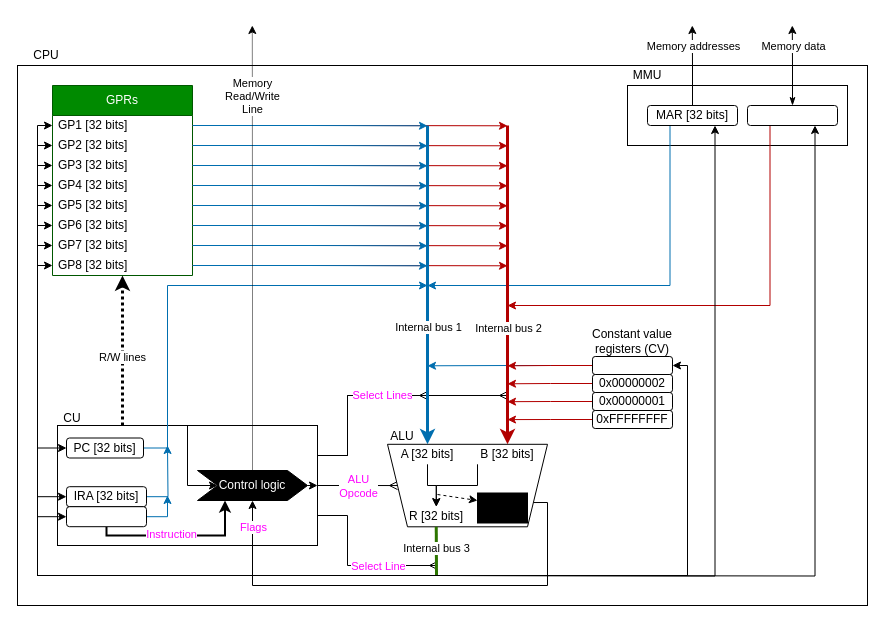
Some shapes in this 885 by 623 pixel diagram are drawn without their labels. The shapes that lost their labels are listed below. From the top down, each one's centre as x and y in pixels, then its label:
At (x=792, y=115): "MDR [32 bits]".
At (x=632, y=365): "0x00000000".
At (x=106, y=516): "IRB [32 bits]".
At (x=502, y=507): "SR [32 bits]".
